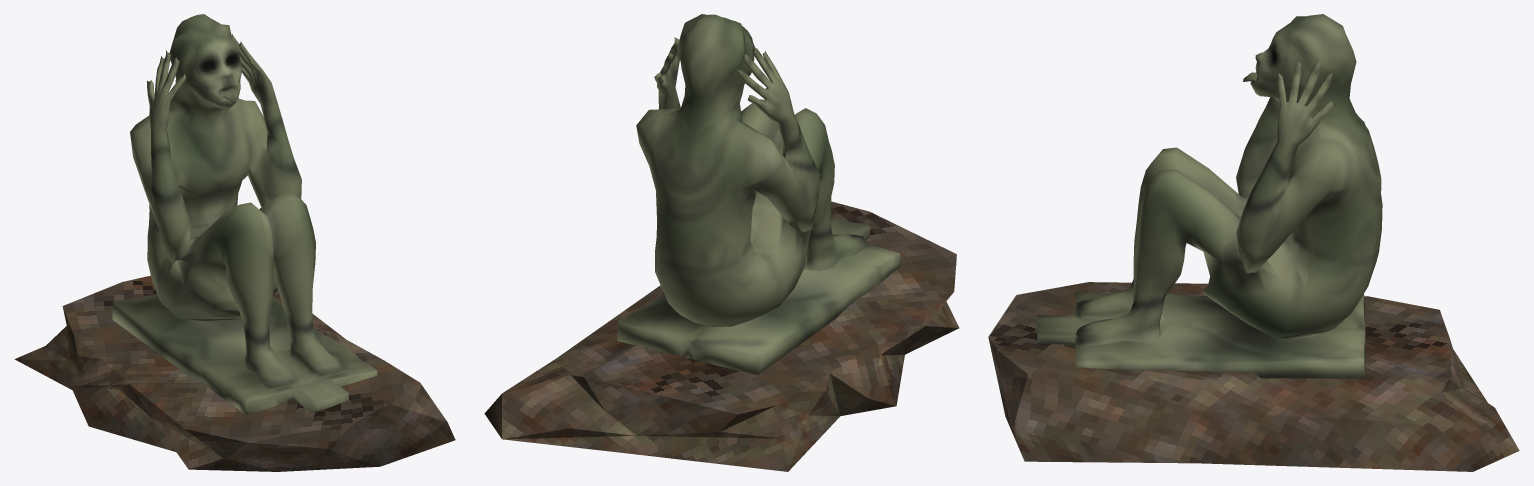
Rendered from Statue.fbx.
3 renders of one model, left to right at view 1: azimuth 30°, elevation 25°; view 2: azimuth 150°, elevation 25°; view 3: azimuth 270°, elevation 25°, orthographic. The views are drawn at different scales.
Parts seen in each view (by area): view 1: Statue, Statue Stone; view 2: Statue, Statue Stone; view 3: Statue, Statue Stone.
Part boxes in pixels (x1,y1,x2,y2): Statue: (112,14,377,414); Statue Stone: (14,275,455,471); Statue: (617,14,900,374); Statue Stone: (484,201,959,471); Statue: (1037,14,1382,378); Statue Stone: (988,282,1519,471).
Size of the model in its own units: 599 by 714 by 900.
Materials: 2 (2 with a texture image).
